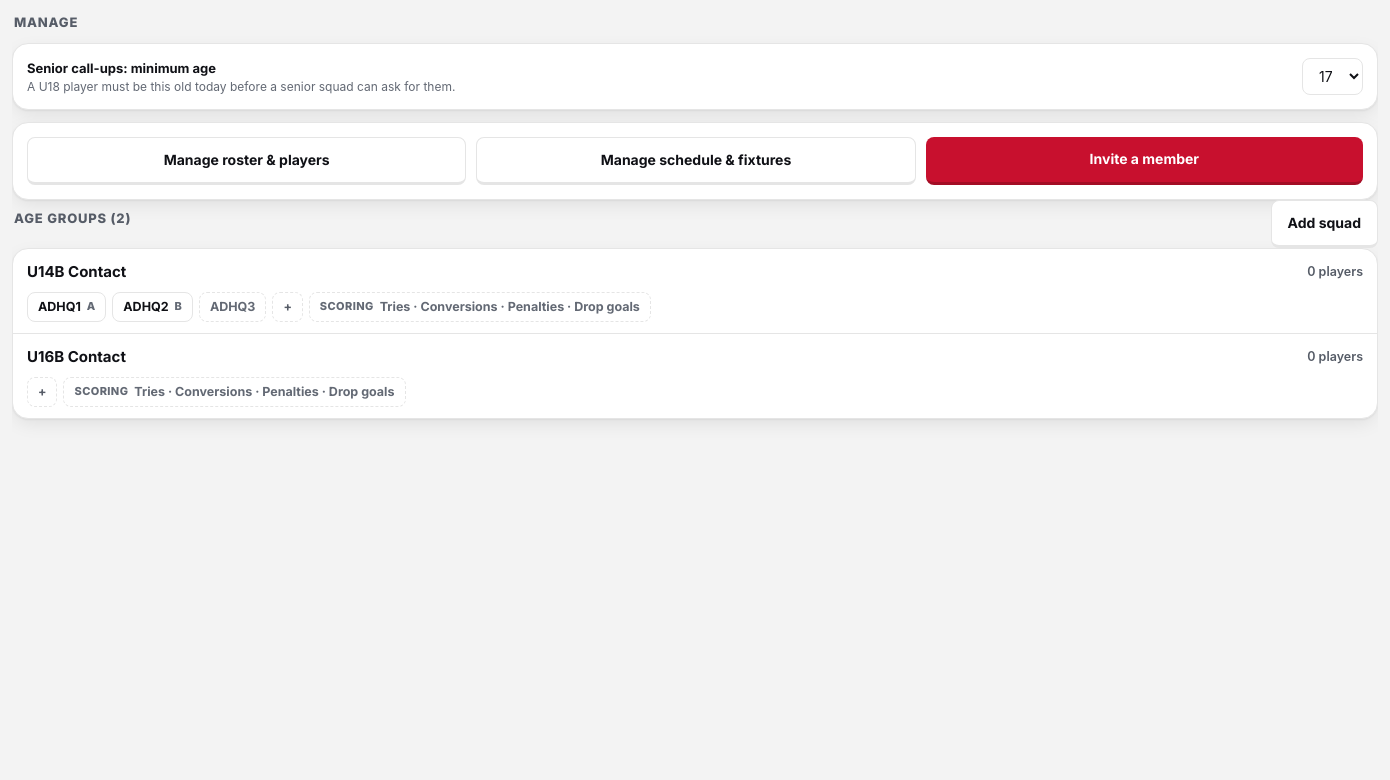
AdminClub — the club's league teams › refuses to save an empty name
Click the button with aria-label "ADHQ2, Division B".
click(153, 307)  # box [112,292,193,322]
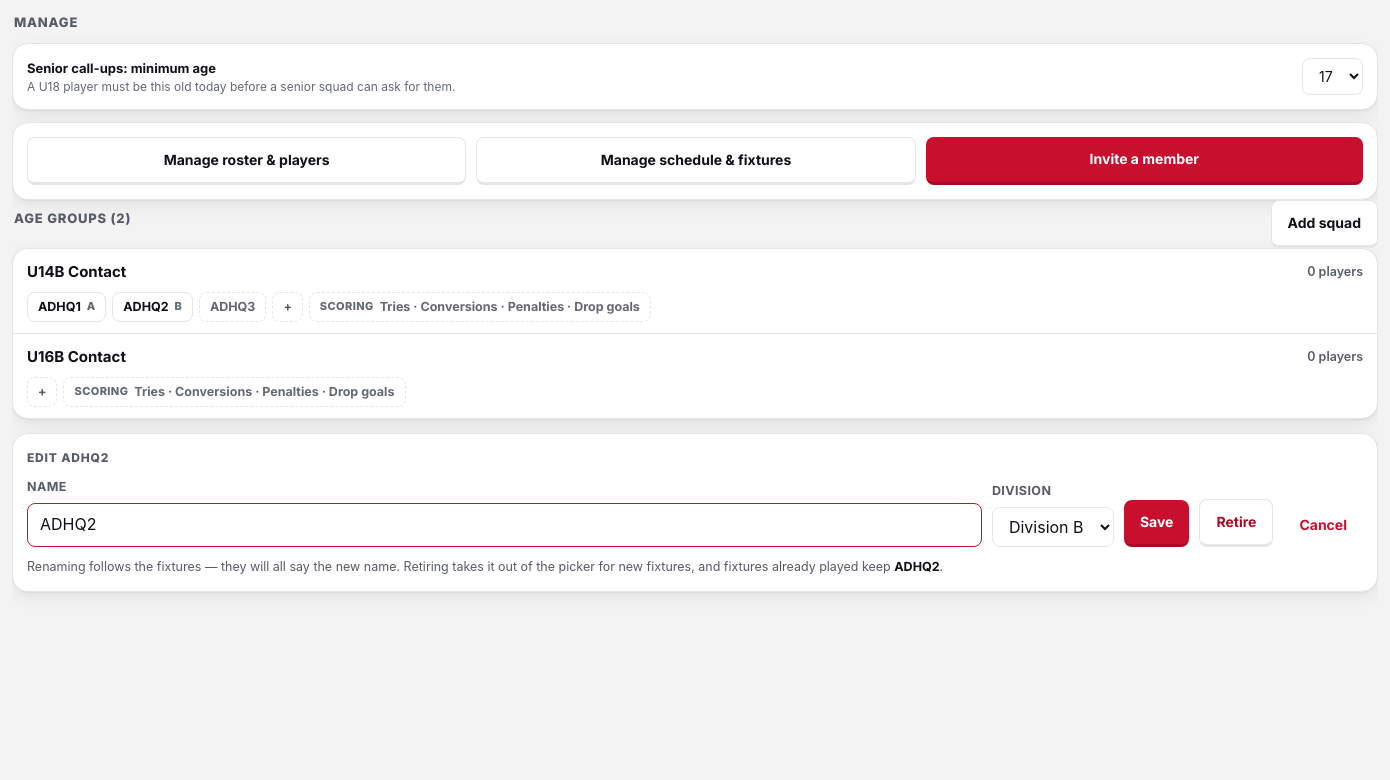
Clear the field named "League team name" at (504, 525), box [27,503,982,547]
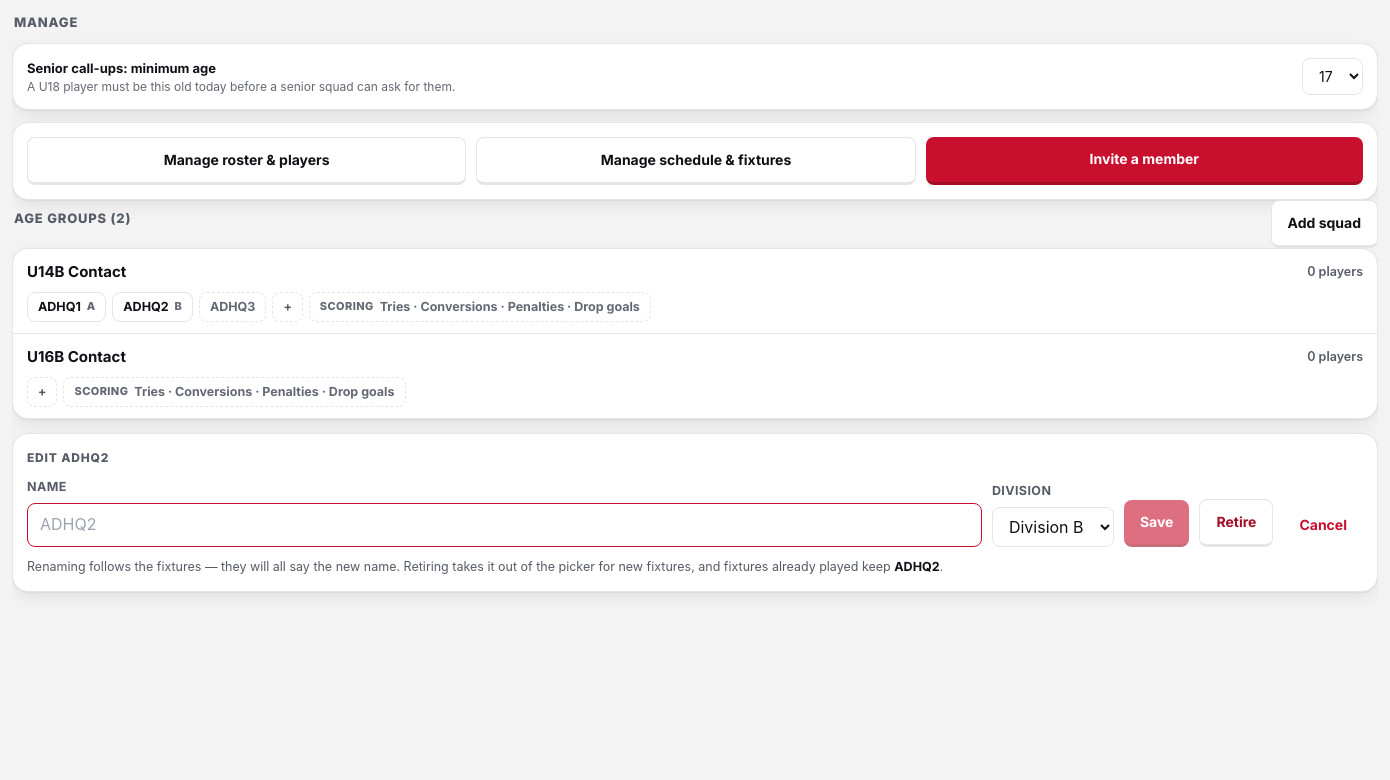
Result: the button "Save" is disabled at [1124,500,1189,547]
